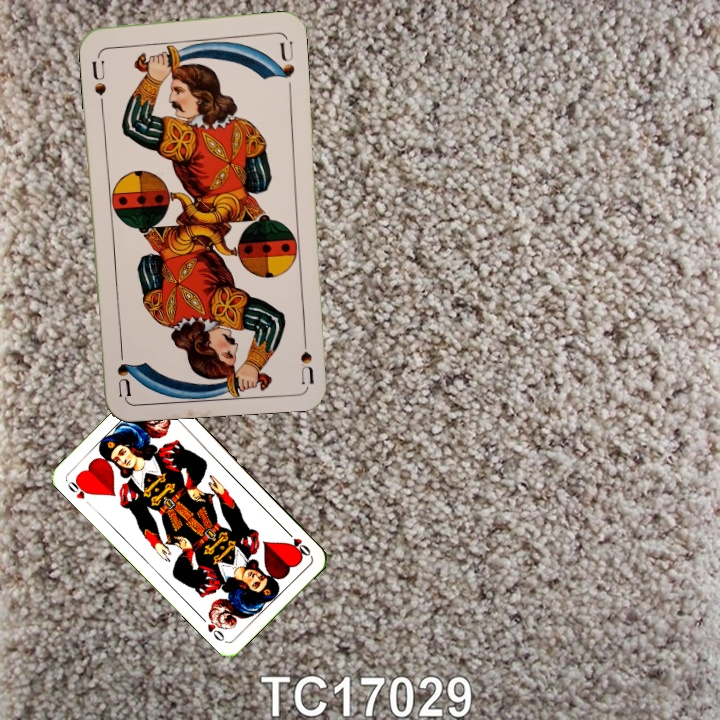HO: (282, 526, 313, 559), (64, 475, 94, 502)
SU: (296, 325, 316, 385), (87, 56, 108, 98)
